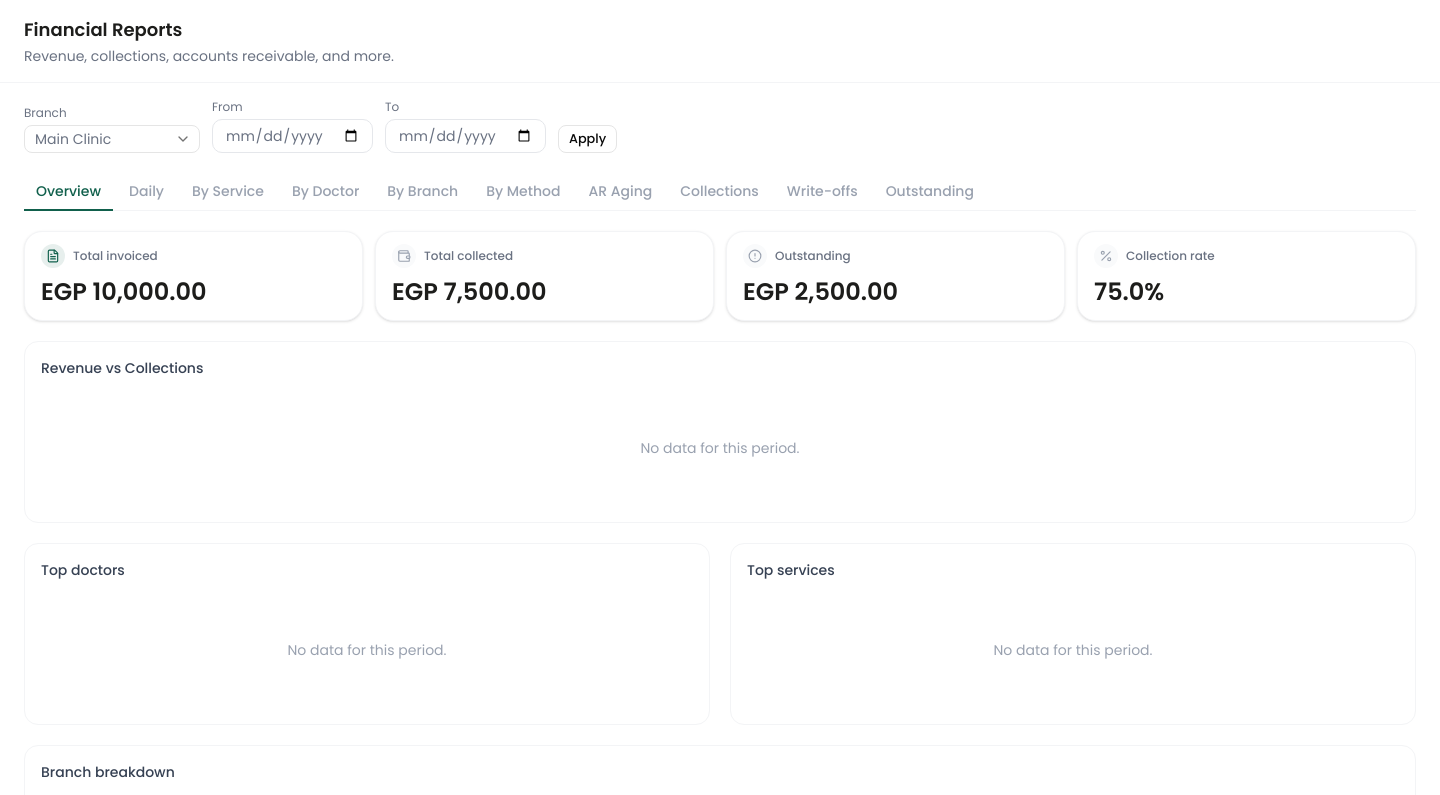
ReportsPage — Overview › branch analytics (owner, multi-branch) › renders the By Branch tab sorted by invoice count
The width and height of the screenshot is (1440, 795).
Click the button "By Branch".
click(423, 192)  # box left=375, top=173, right=470, bottom=211
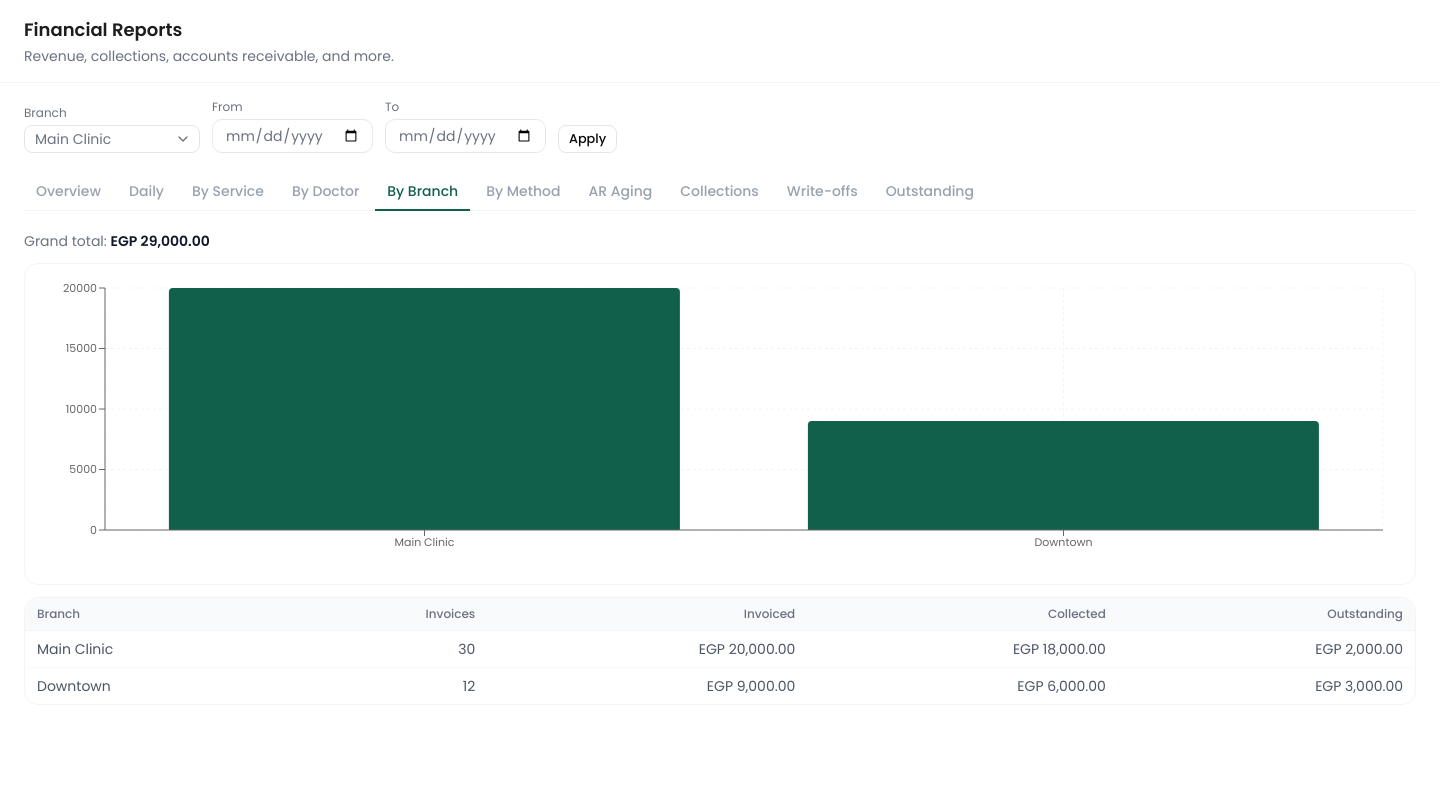
Result: the row "Main Clinic 30 EGP 20,000.00 EGP 18,000.00 EGP 2,000.00" is shown at left=25, top=630, right=1415, bottom=668
